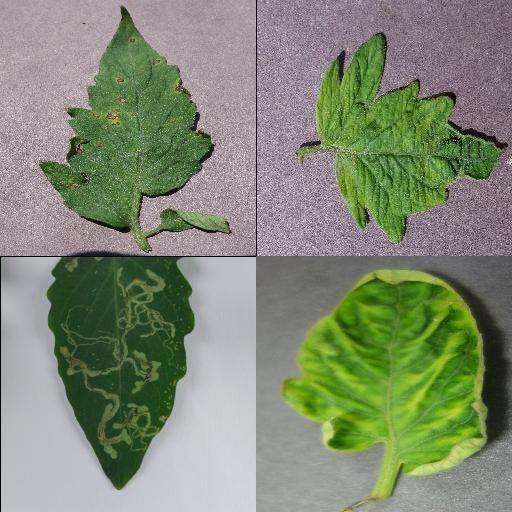Leaf Miner: (44, 259, 196, 491)
Mosaic Virus: (315, 31, 507, 247)
Septoria: (37, 1, 211, 227)
Yellow Leaf Curl Virus: (283, 269, 489, 475)
